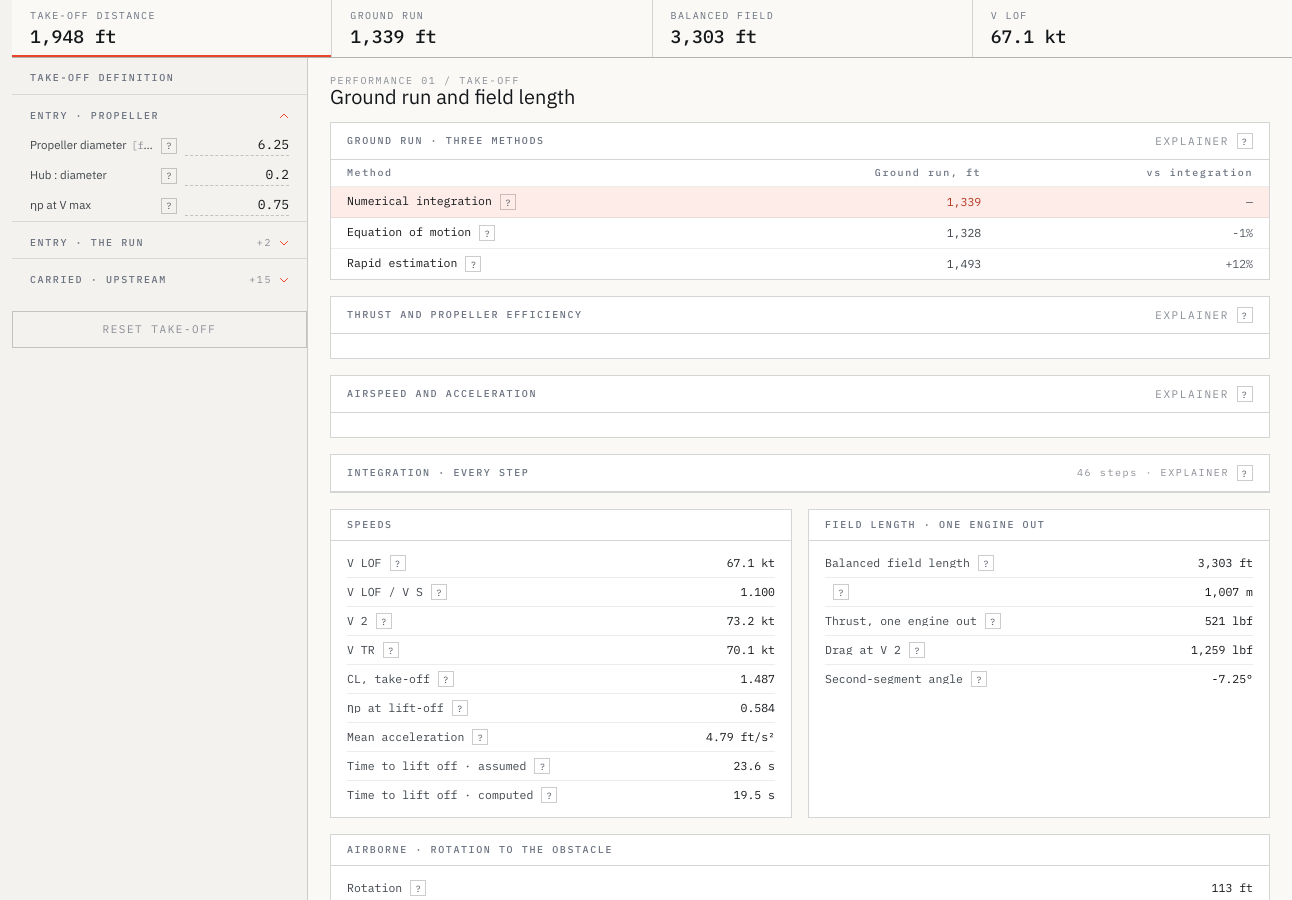
TakeOff › moves chart explanations into explainer tooltips
The image size is (1292, 900).
Expected: the text "EXPLAINER" is shown 3 times, top-left (1155, 133), bottom-right (1253, 149); top-left (1155, 307), bottom-right (1253, 323); top-left (1155, 386), bottom-right (1253, 402)
Hover over the button with test id "help-to-thrust-explainer": (1245, 315) top-left (1237, 307), bottom-right (1253, 323)
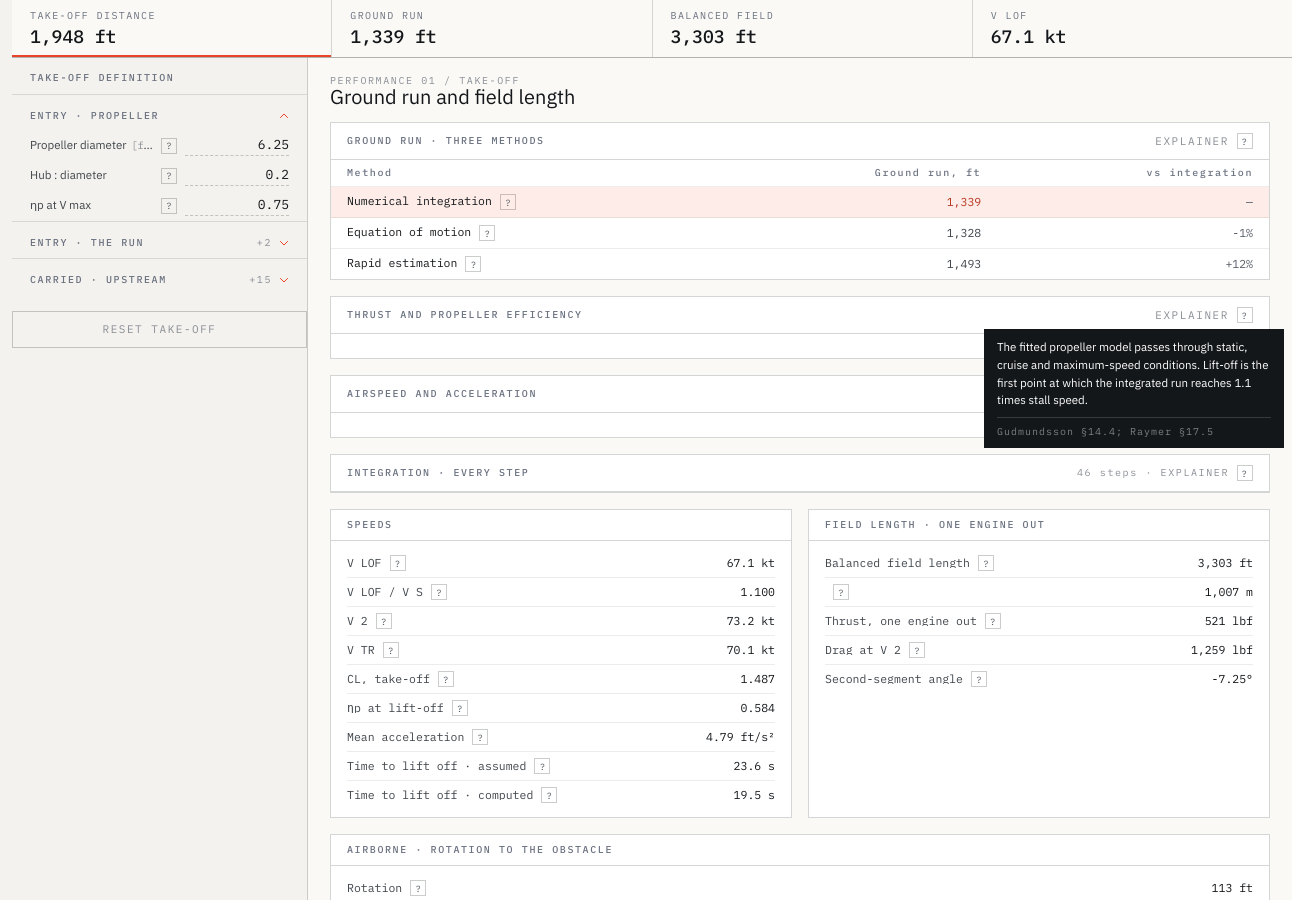
Now the text "fitted propeller model" is shown, box top-left (997, 339), bottom-right (1268, 407)
